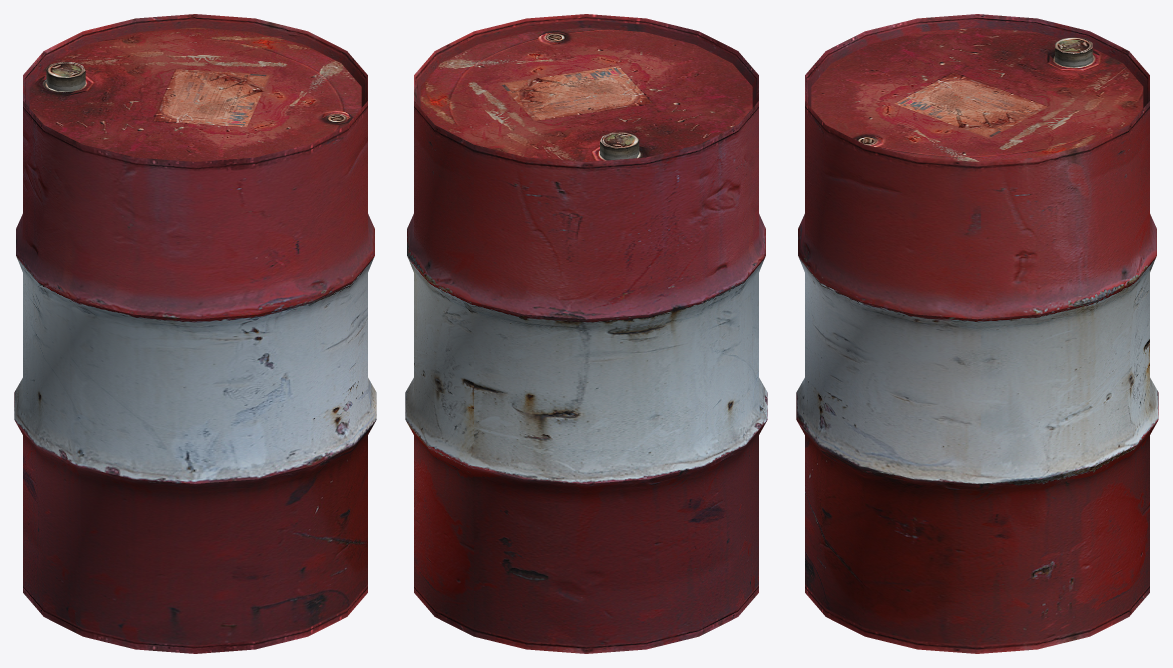
The model's file is barrel-2.FBX.
The picture shows the model from 3 angles, left to right: view 1: azimuth 30°, elevation 25°; view 2: azimuth 150°, elevation 25°; view 3: azimuth 270°, elevation 25°; orthographic projection.
Visible parts, largest first — view 1: Line01; view 2: Line01; view 3: Line01.
Part boxes in pixels (box(x1,y1,x2,y2)): Line01: box(14, 14, 376, 653); Line01: box(405, 14, 767, 653); Line01: box(796, 14, 1158, 653).
Bounding box in the file's own units: 79.02 × 77.82 × 117.
Materials: 1 (1 with a texture image).
